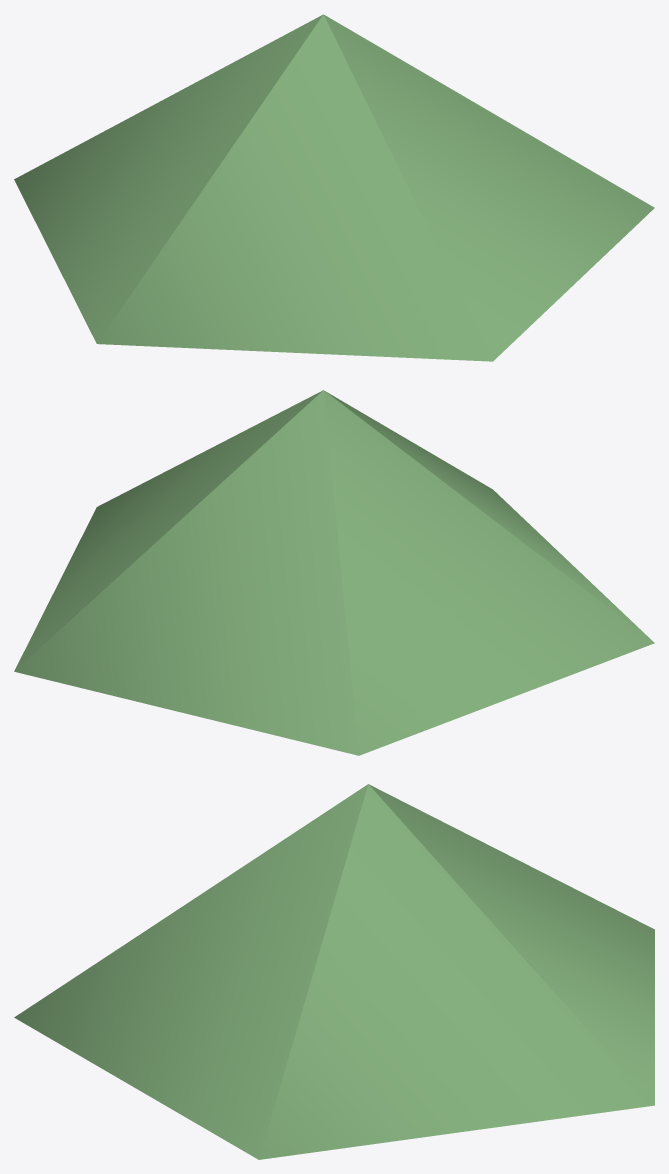
The model's file is fern.gltf.
3 renders of one model, top to bottom at view 1: azimuth 30°, elevation 25°; view 2: azimuth 150°, elevation 25°; view 3: azimuth 270°, elevation 25°, orthographic. The views are drawn at different scales.
Parts seen in each view (by area): view 1: Fern; view 2: Fern; view 3: Fern.
Part boxes in pixels (x1=…): Fern: x1=14, y1=14, x2=654, y2=361; Fern: x1=14, y1=390, x2=654, y2=755; Fern: x1=14, y1=784, x2=654, y2=1159.
Size of the model in its own units: 1.05 by 0.4 by 0.995.
